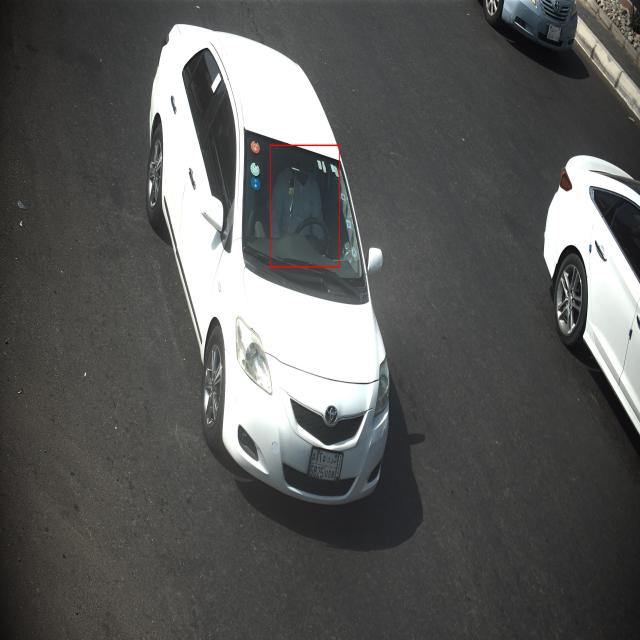windshield: (239, 122, 372, 307)
